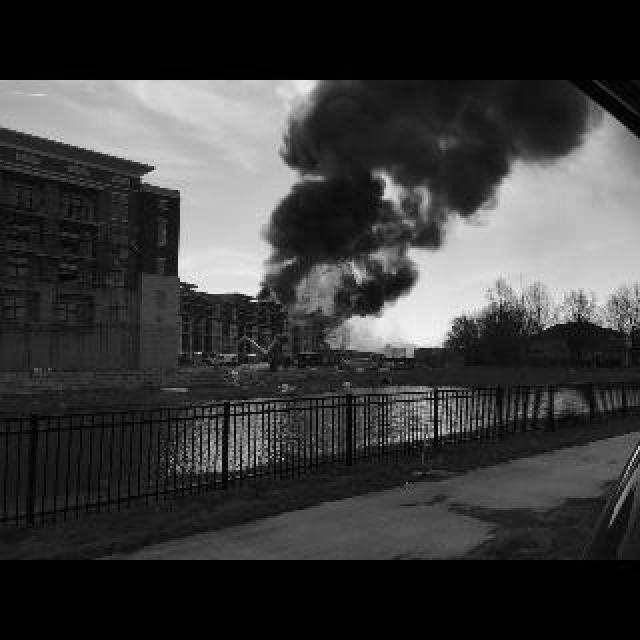Fire: (256, 258, 364, 346)
Smoke: (256, 80, 586, 284), (334, 268, 422, 318)
